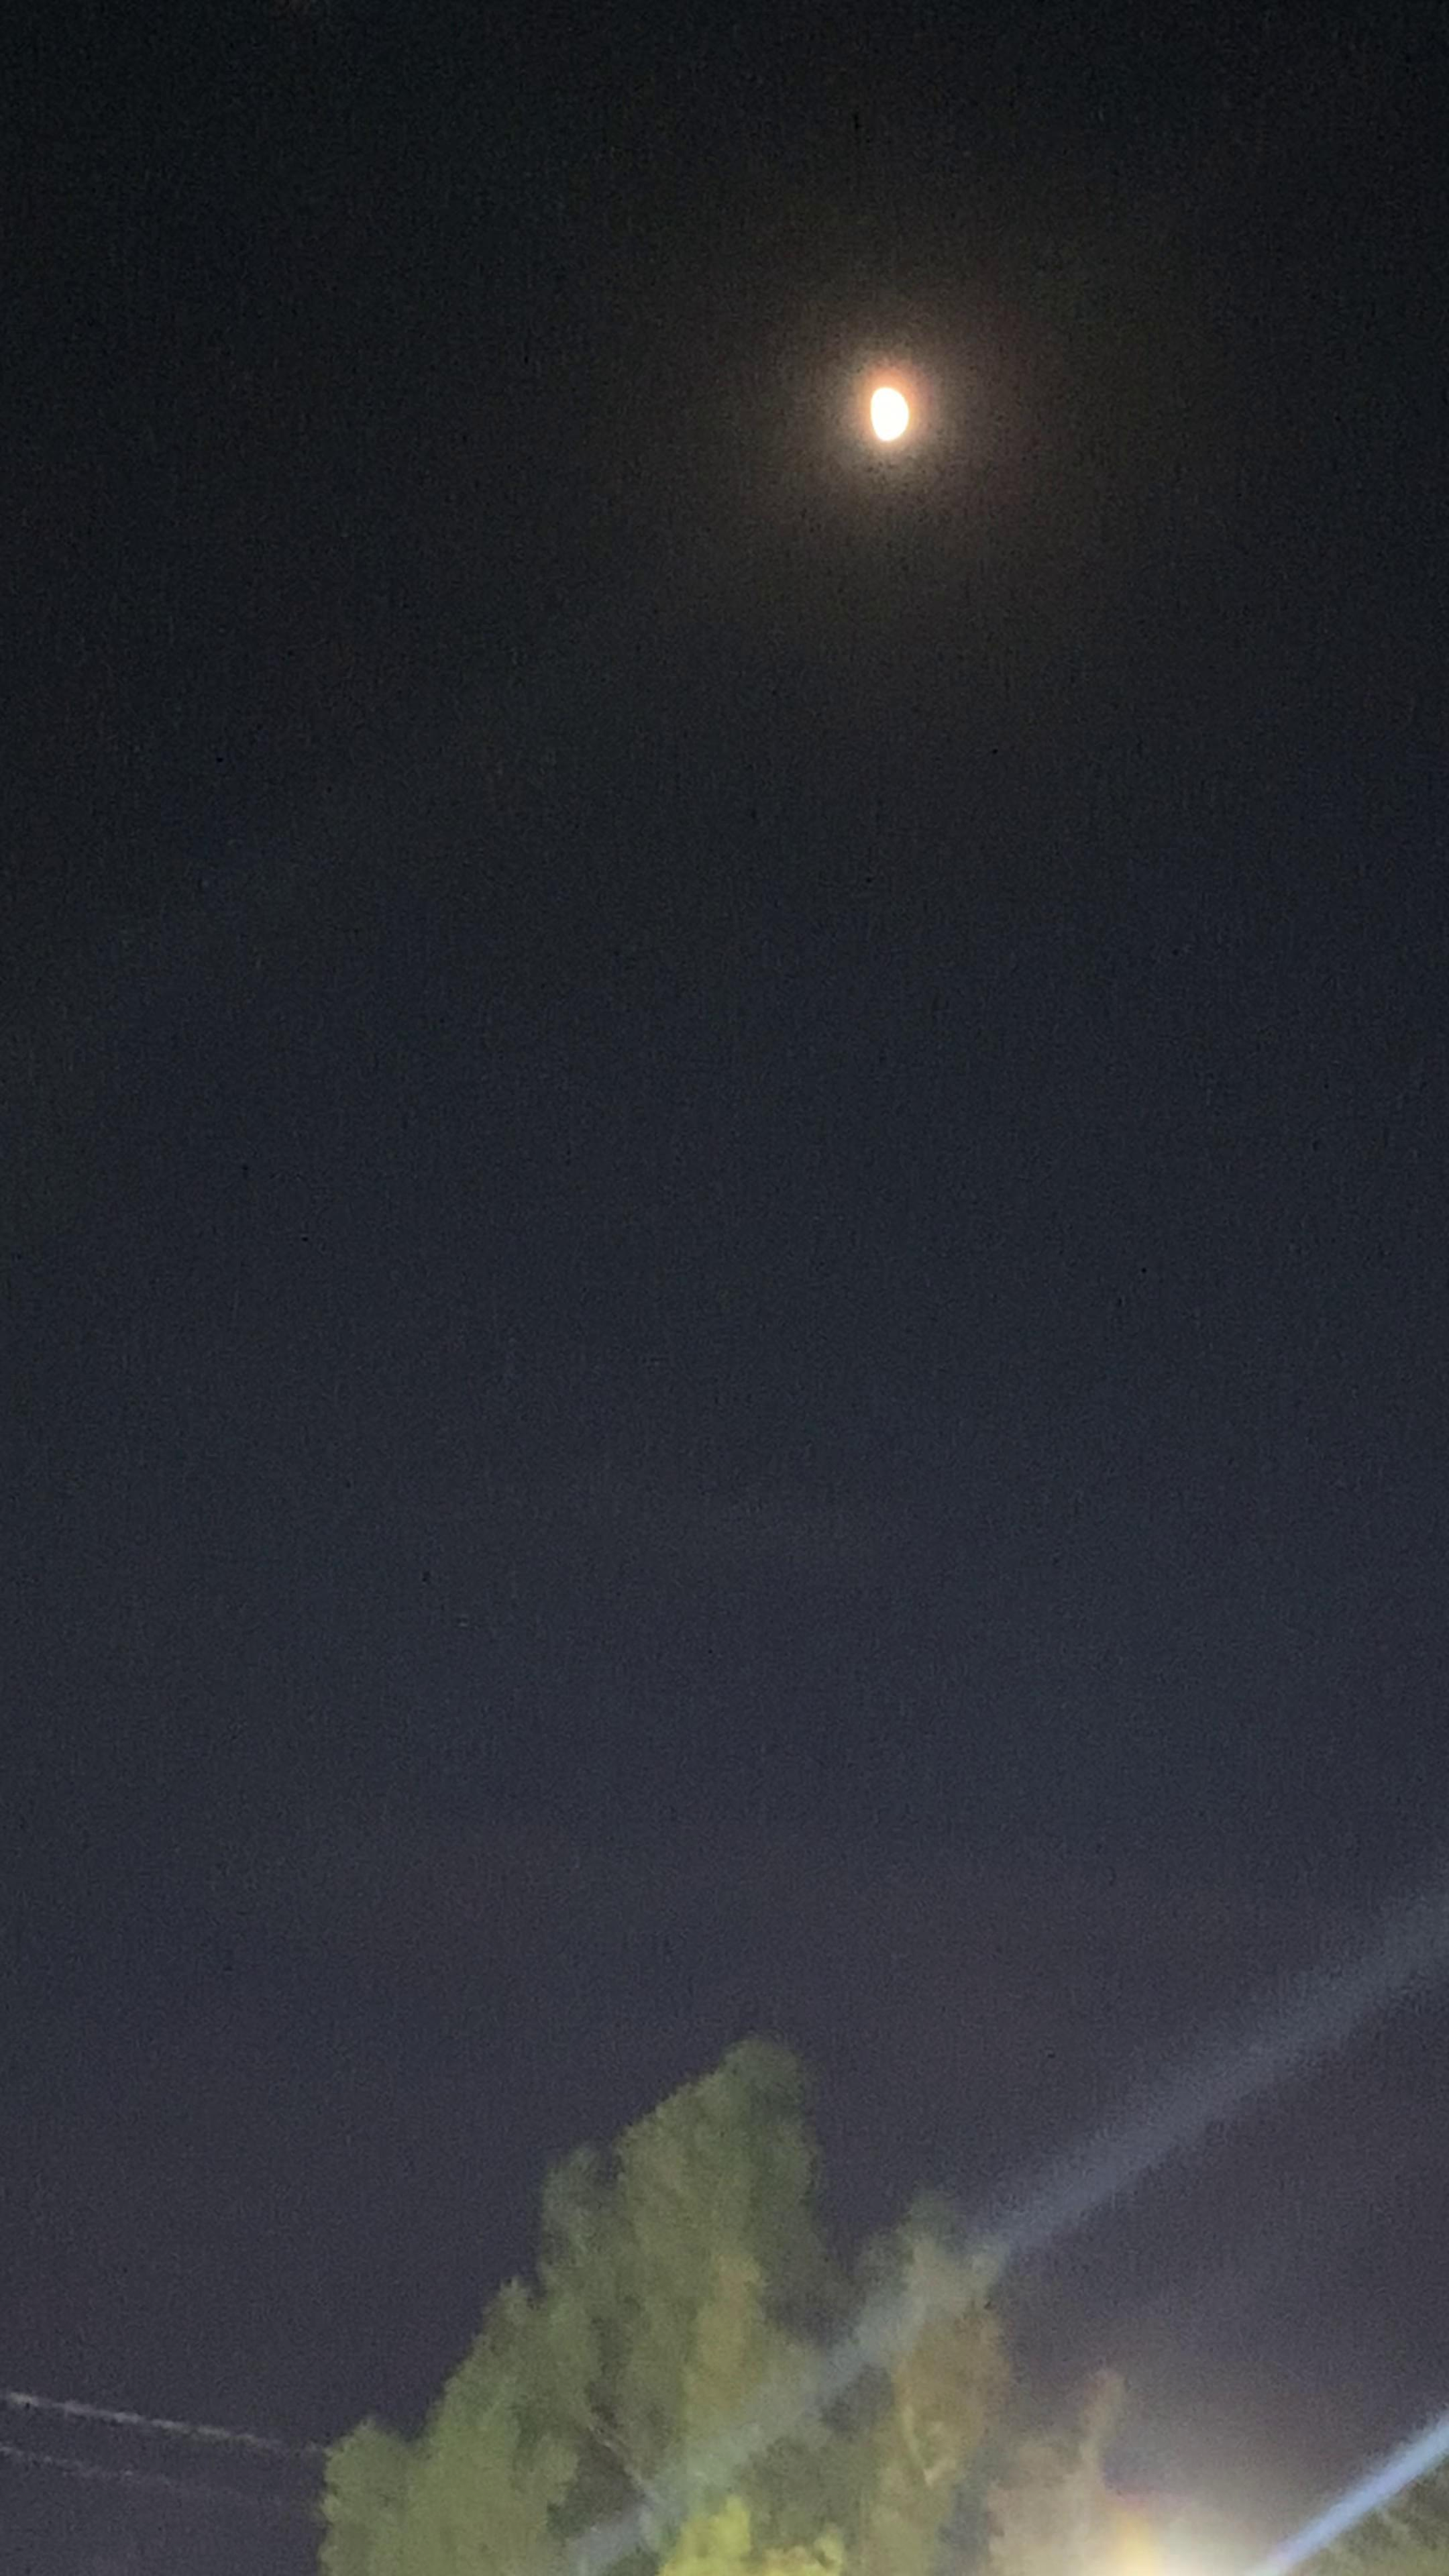moon: (821, 354, 938, 481)
